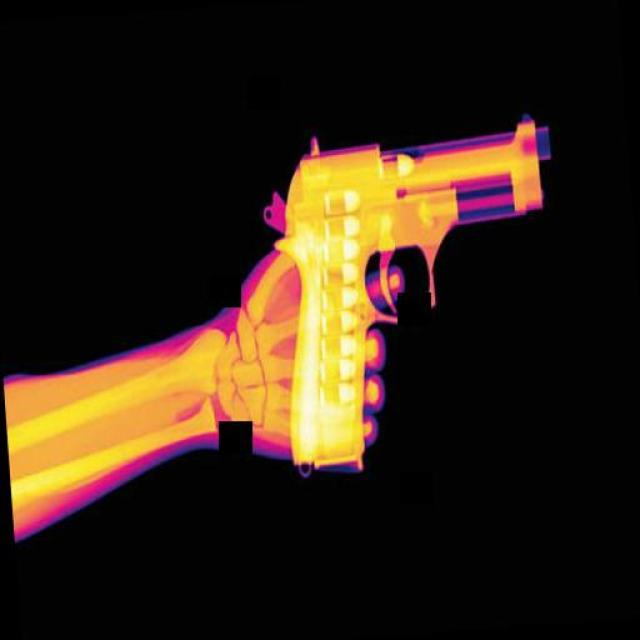gun: (255, 110, 575, 484)
